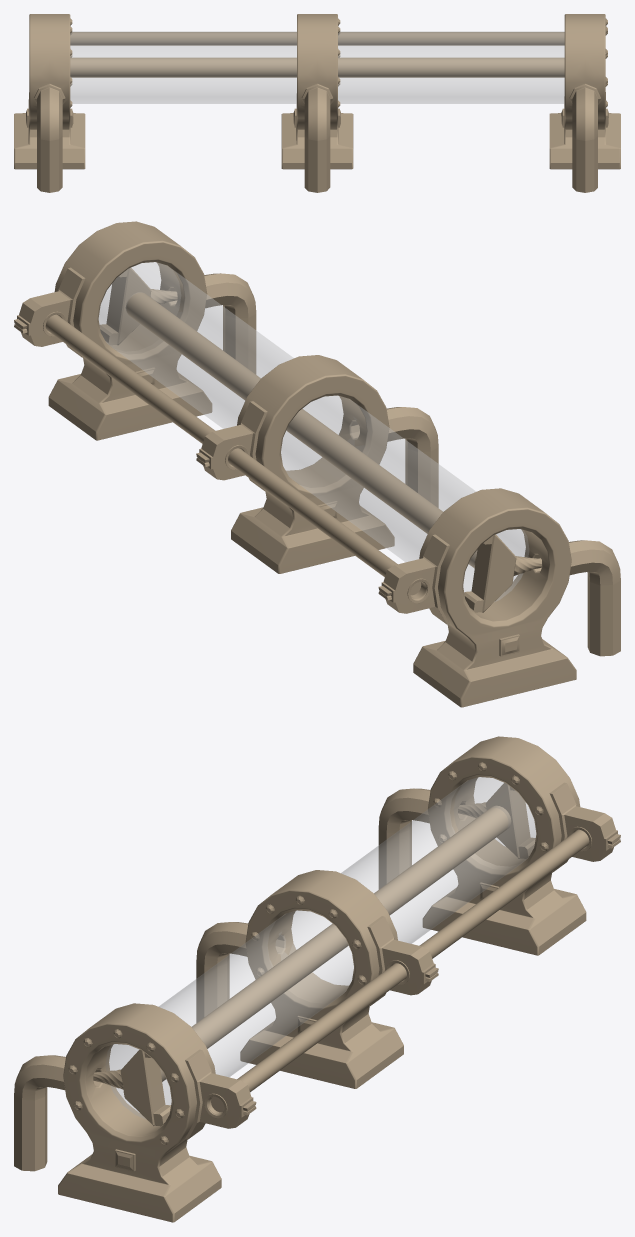
File: ModuleBnm.fbx
3 renders of one model, top to bottom at view 1: azimuth 30°, elevation 25°; view 2: azimuth 150°, elevation 25°; view 3: azimuth 270°, elevation 25°, orthographic. The views are drawn at different scales.
Parts seen in each view (by area): view 1: polySurface397, polySurface396; view 2: polySurface397, polySurface396; view 3: polySurface397, polySurface396.
Boxes of the visible parts, x1=… form: polySurface397: x1=14, y1=14, x2=620, y2=192; polySurface396: x1=70, y1=31, x2=564, y2=103; polySurface397: x1=14, y1=221, x2=620, y2=707; polySurface396: x1=99, y1=262, x2=528, y2=601; polySurface397: x1=14, y1=736, x2=620, y2=1222; polySurface396: x1=106, y1=777, x2=535, y2=1118.
Size of the model in its own units: 912 by 226 by 704.
